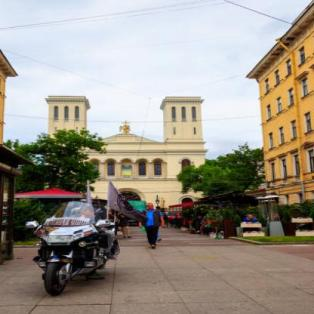Motocicleta: (20, 200, 127, 300)
